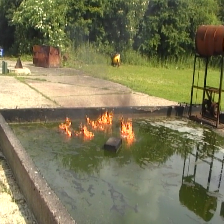fire_h: (86, 110, 114, 131), (120, 115, 136, 145)
fire_l: (74, 123, 95, 139), (59, 117, 73, 137)
